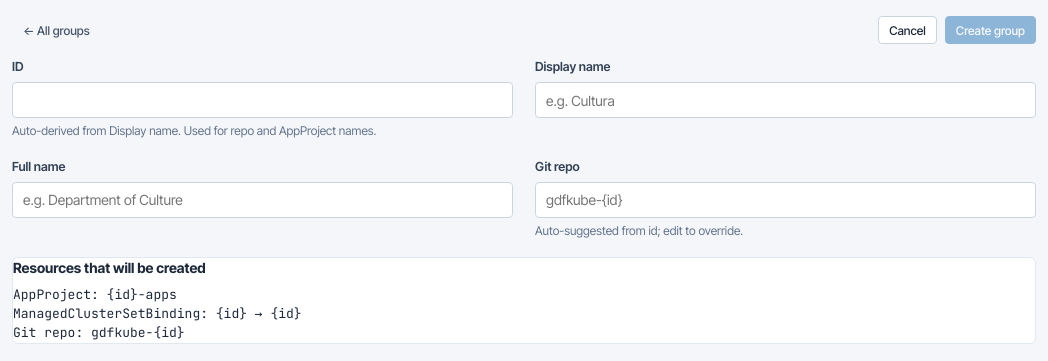
it: NewGroupPage › Display name with spaces and punctuation derives kebab-case ID
Type "Min. da fazenda" into the field labelled "Display name" at [786, 100], box [535,82,1036,118]
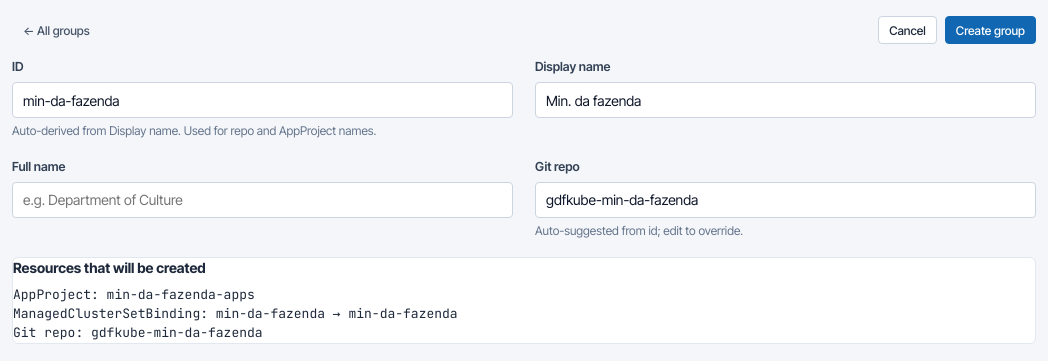
Result: the field labelled "ID" holds "min-da-fazenda" at [12,82,513,118]
Result: the field labelled "Git repo" holds "gdfkube-min-da-fazenda" at [535,182,1036,218]
